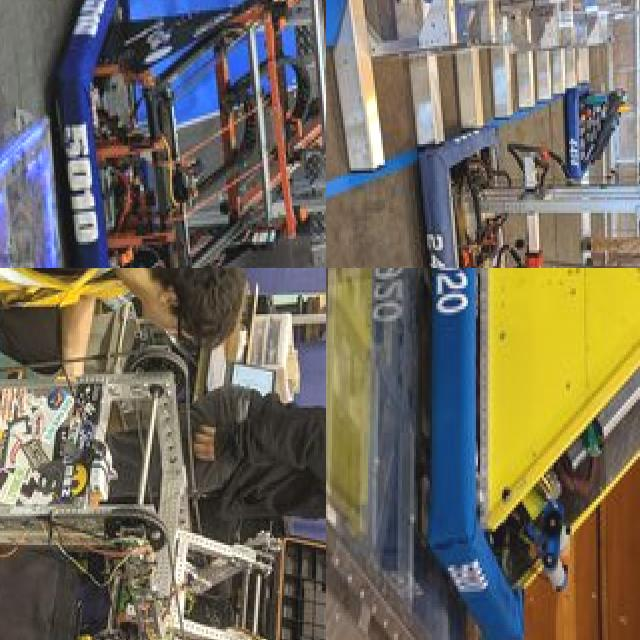FRC-Robots: (411, 268, 640, 640), (46, 0, 326, 268), (0, 268, 192, 640), (409, 0, 640, 268), (559, 0, 640, 186)
